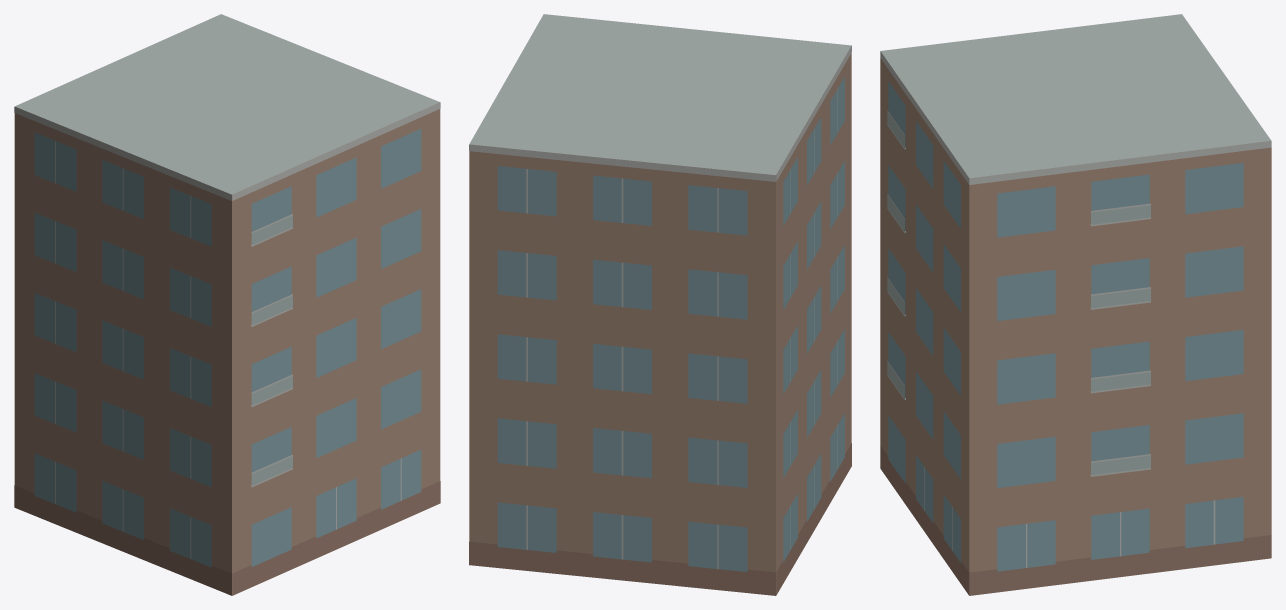
File: survey-upis-33042790.glb
3 views of the same model, side by side, from view 1: azimuth 30°, elevation 25°; view 2: azimuth 150°, elevation 25°; view 3: azimuth 270°, elevation 25° (orthographic). The views are drawn at different scales.
Parts seen in each view (by area): view 1: survey-upis-33042790.tmp; view 2: survey-upis-33042790.tmp; view 3: survey-upis-33042790.tmp.
Part boxes in pixels (x1,y1,x2,y2): survey-upis-33042790.tmp: (14, 14, 440, 595); survey-upis-33042790.tmp: (469, 14, 851, 595); survey-upis-33042790.tmp: (880, 14, 1271, 595).
Bounding box in the file's own units: 12.89 × 15.25 × 12.96.
